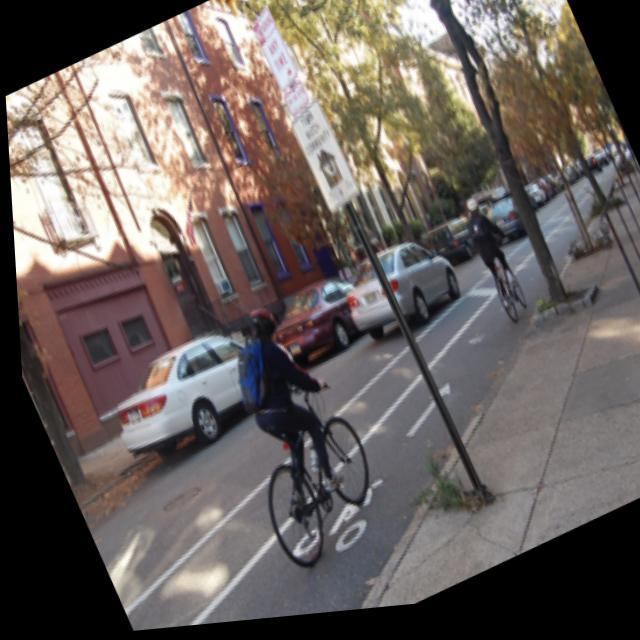Helmet: (245, 302, 284, 345)
